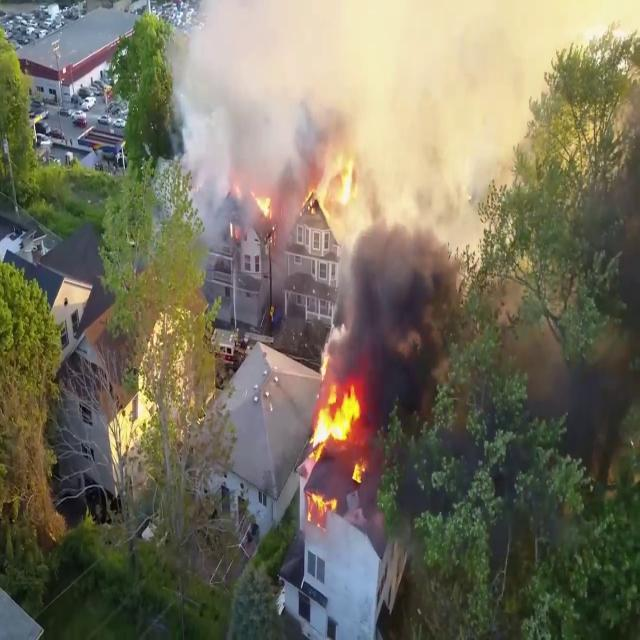Fire: (305, 363, 365, 457)
Smoke: (326, 9, 496, 392), (164, 0, 342, 226)
